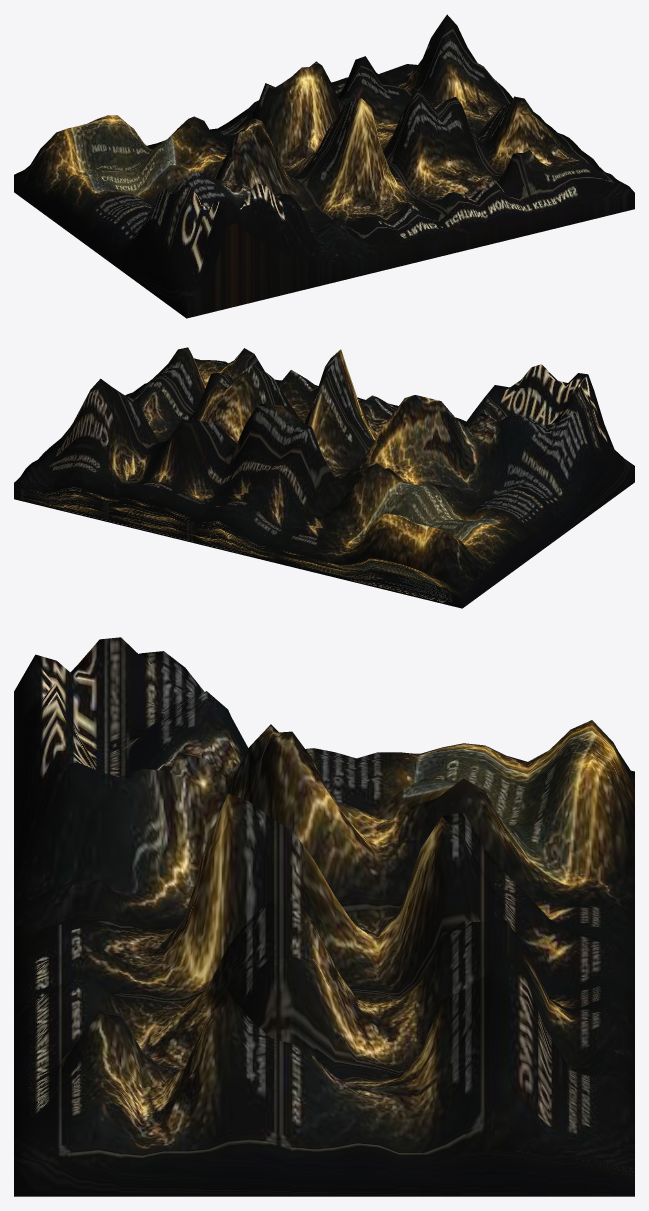
Rendered from CUL_24_Lightning.glb.
3 views of the same model, one above another, from view 1: azimuth 30°, elevation 25°; view 2: azimuth 150°, elevation 25°; view 3: azimuth 270°, elevation 25° (orthographic). The views are drawn at different scales.
Parts seen in each view (by area): view 1: CUL_24_Lightning; view 2: CUL_24_Lightning; view 3: CUL_24_Lightning.
Boxes of the visible parts, <box> form: CUL_24_Lightning: <box>14,14,634,318</box>; CUL_24_Lightning: <box>14,347,634,608</box>; CUL_24_Lightning: <box>14,637,634,1196</box>.
Bounding box in the file's own units: 2 × 0.51 × 1.33.
1 material, 1 textured.
